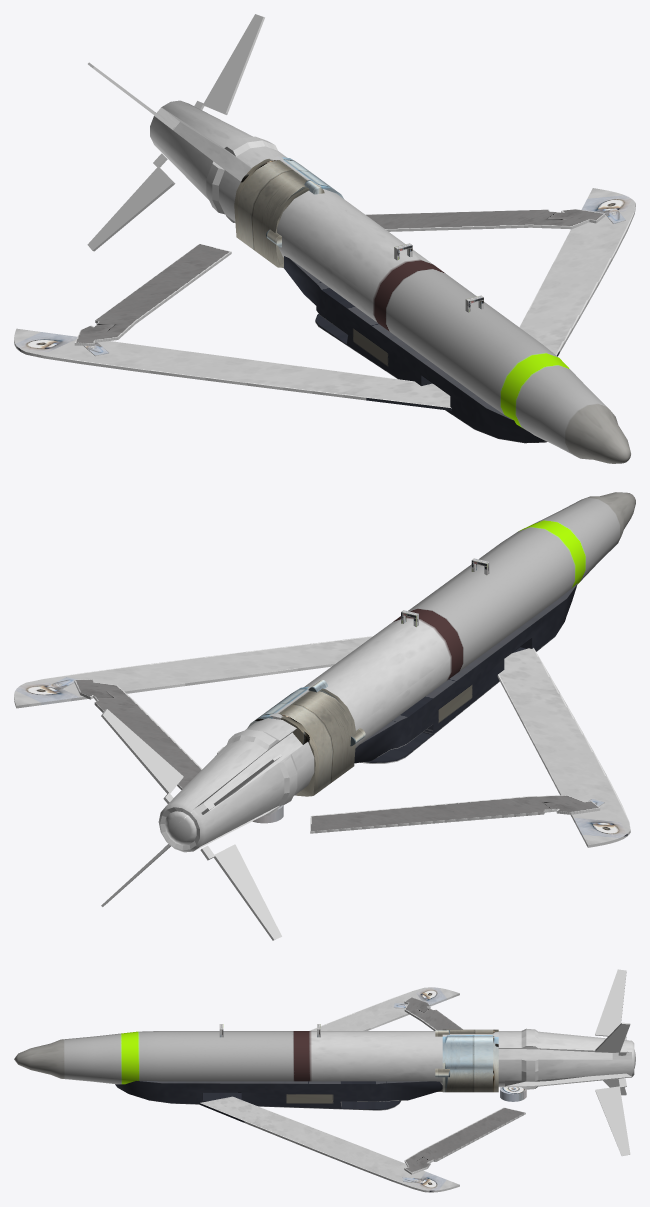
Rendered from gbu-39b_small_diameter_bomb_weapon_system.glb.
The picture shows the model from 3 angles, top to bottom: view 1: azimuth 30°, elevation 25°; view 2: azimuth 150°, elevation 25°; view 3: azimuth 270°, elevation 25°; orthographic projection. The views are drawn at different scales.
Parts seen in each view (by area): view 1: Capsule001, Line004_Material #25_0, Cylinder001, Line001_Material #25_0, Cylinder002, Line003, Line002, Box005_Material #25_0, Capsule002_Material #25_0; view 2: Capsule001, Line004_Material #25_0, Line001_Material #25_0, Cylinder001, Line003, Cylinder002, Line002, Capsule002_Material #25_0, Box005_Material #25_0; view 3: Capsule001, Cylinder001, Line001_Material #25_0, Cylinder002, Line004_Material #25_0, Line002, Box008_Material #25_0, Capsule001_Material #25_0, Line003, Box005_Material #25_0, Cylinder016.
Boxes of the visible parts, left/top/right/bottom form: Capsule001: left=150, top=100, right=630, bottom=463; Line004_Material #25_0: left=14, top=328, right=451, bottom=410; Cylinder001: left=283, top=256, right=547, bottom=443; Line001_Material #25_0: left=519, top=188, right=635, bottom=356; Cylinder002: left=234, top=156, right=343, bottom=267; Line003: left=74, top=244, right=231, bottom=345; Line002: left=366, top=209, right=605, bottom=231; Box005_Material #25_0: left=194, top=14, right=264, bottom=114; Capsule002_Material #25_0: left=87, top=153, right=175, bottom=251; Capsule001: left=158, top=492, right=635, bottom=852; Line004_Material #25_0: left=497, top=648, right=630, bottom=847; Line001_Material #25_0: left=14, top=636, right=372, bottom=708; Cylinder001: left=354, top=583, right=577, bottom=763; Line003: left=310, top=795, right=600, bottom=833; Cylinder002: left=247, top=686, right=355, bottom=796; Line002: left=74, top=679, right=202, bottom=789; Capsule002_Material #25_0: left=200, top=844, right=281, bottom=940; Box005_Material #25_0: left=101, top=709, right=183, bottom=803; Capsule001: left=14, top=1028, right=635, bottom=1089; Cylinder001: left=115, top=1081, right=442, bottom=1110; Line001_Material #25_0: left=199, top=1096, right=459, bottom=1192; Cylinder002: left=442, top=1029, right=498, bottom=1092; Line004_Material #25_0: left=309, top=987, right=459, bottom=1030; Line002: left=404, top=1107, right=525, bottom=1174; Box008_Material #25_0: left=595, top=1078, right=630, bottom=1155; Capsule001_Material #25_0: left=595, top=969, right=626, bottom=1040; Line003: left=404, top=997, right=462, bottom=1030; Box005_Material #25_0: left=595, top=1022, right=630, bottom=1055; Cylinder016: left=500, top=1087, right=526, bottom=1101.
Bounding box in the file's own units: 33.48 × 10.25 × 43.27.
Materials: 1 (1 with a texture image).
